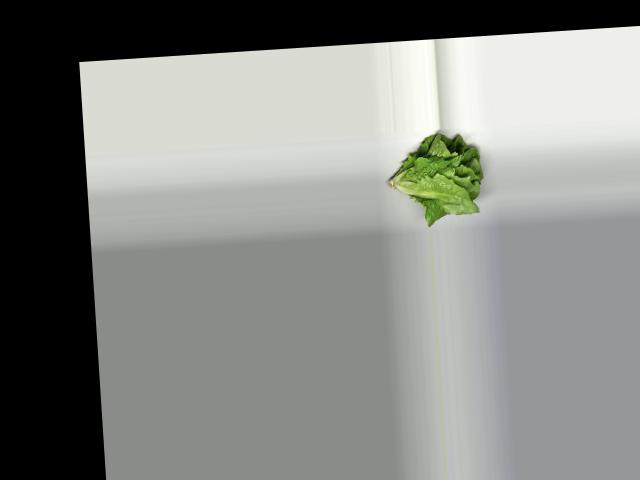lettuce: (382, 130, 487, 228)
